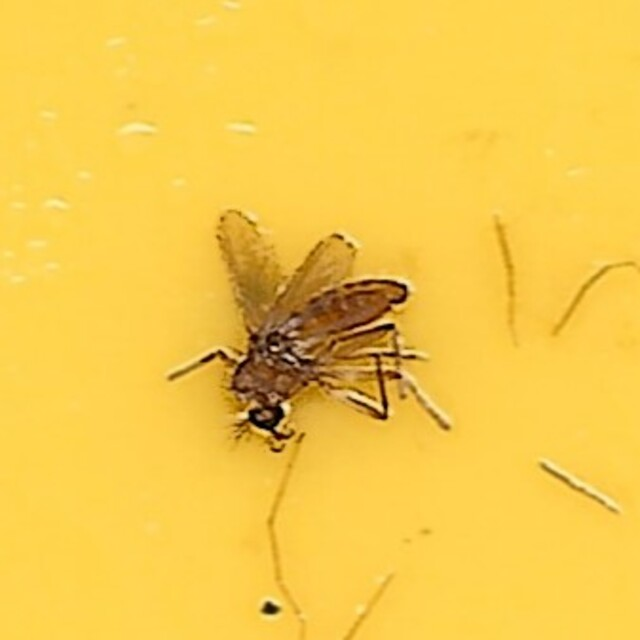Nematocera: (190, 184, 450, 456)
